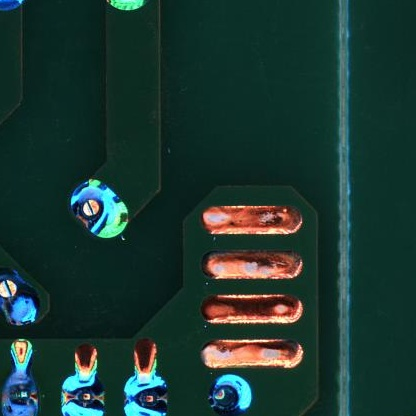spot: (68, 177, 131, 239), (2, 269, 41, 328), (205, 373, 254, 416), (121, 373, 168, 416), (62, 376, 105, 416), (3, 373, 39, 416)
